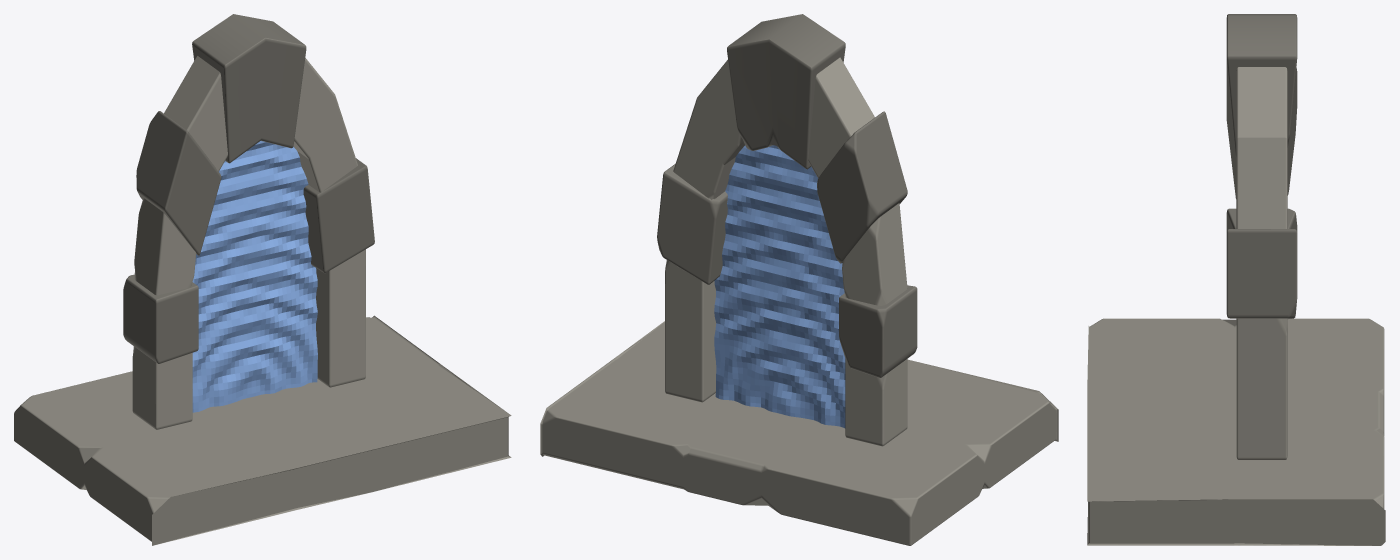
The model's file is portal.fbx.
3 views of the same model, side by side, from view 1: azimuth 30°, elevation 25°; view 2: azimuth 150°, elevation 25°; view 3: azimuth 270°, elevation 25° (orthographic). The views are drawn at different scales.
Visible parts, largest first — view 1: Plane.002, Plane, Plane.003, Plane.001; view 2: Plane.002, Plane, Plane.003, Plane.001; view 3: Plane.002, Plane.001, Plane.
Part boxes in pixels (x1,y1,x2,y2): Plane.002: (14, 315, 511, 545); Plane: (123, 14, 374, 363); Plane.003: (192, 141, 317, 412); Plane.001: (132, 56, 365, 429); Plane.002: (540, 321, 1058, 545); Plane: (657, 14, 917, 377); Plane.003: (714, 145, 845, 428); Plane.001: (665, 57, 907, 446); Plane.002: (1087, 318, 1385, 545); Plane.001: (1236, 67, 1287, 460); Plane: (1226, 14, 1297, 318).
Bounding box in the file's own units: 528 × 585 × 361.
